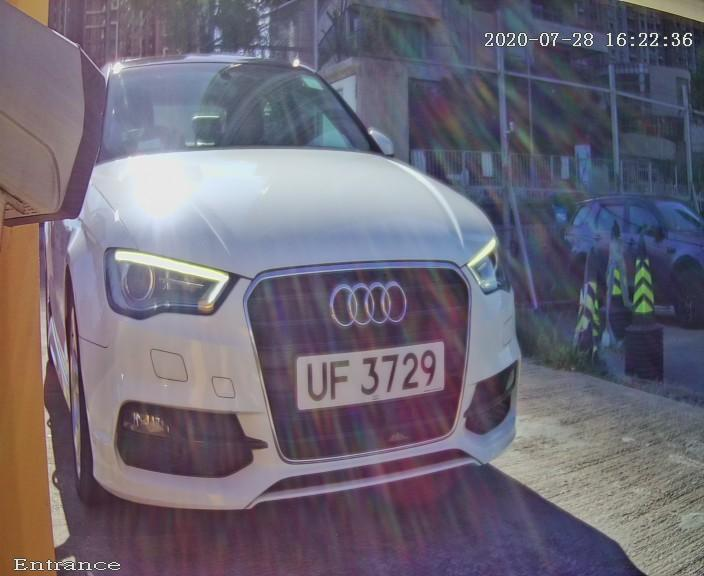privatecar: (23, 24, 591, 551)
